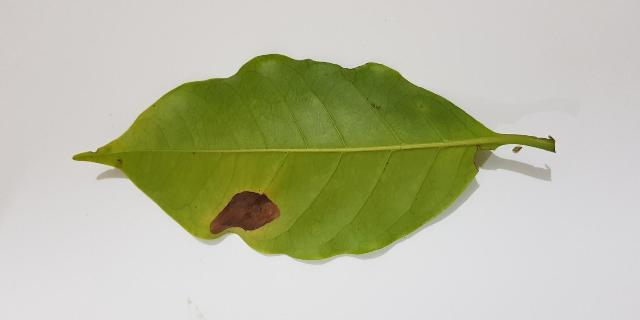cercospora: (210, 191, 280, 234)
